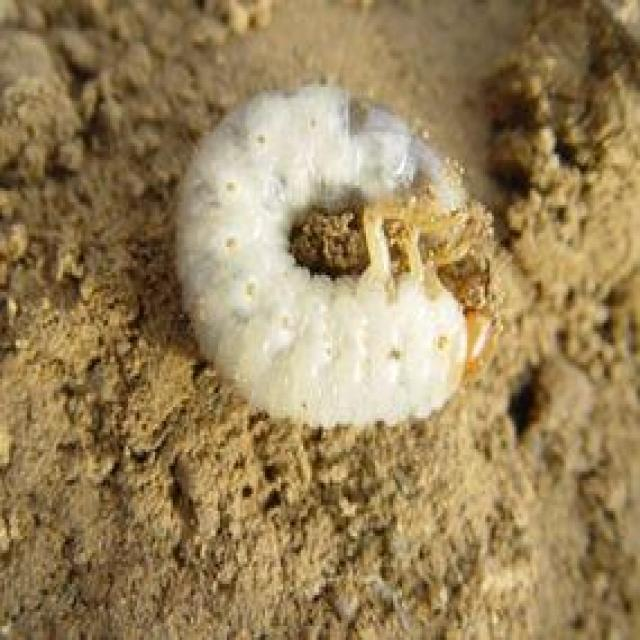Grub-Adult-: (164, 77, 486, 436)
